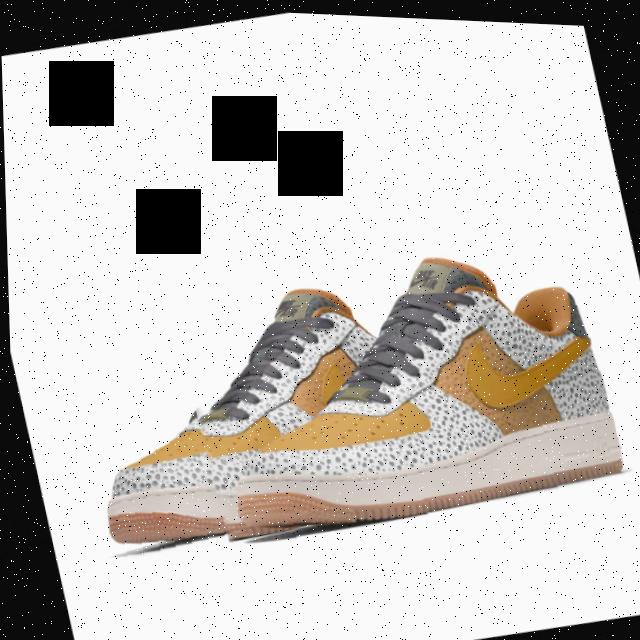shoe: (161, 200, 640, 588), (44, 249, 430, 587)
